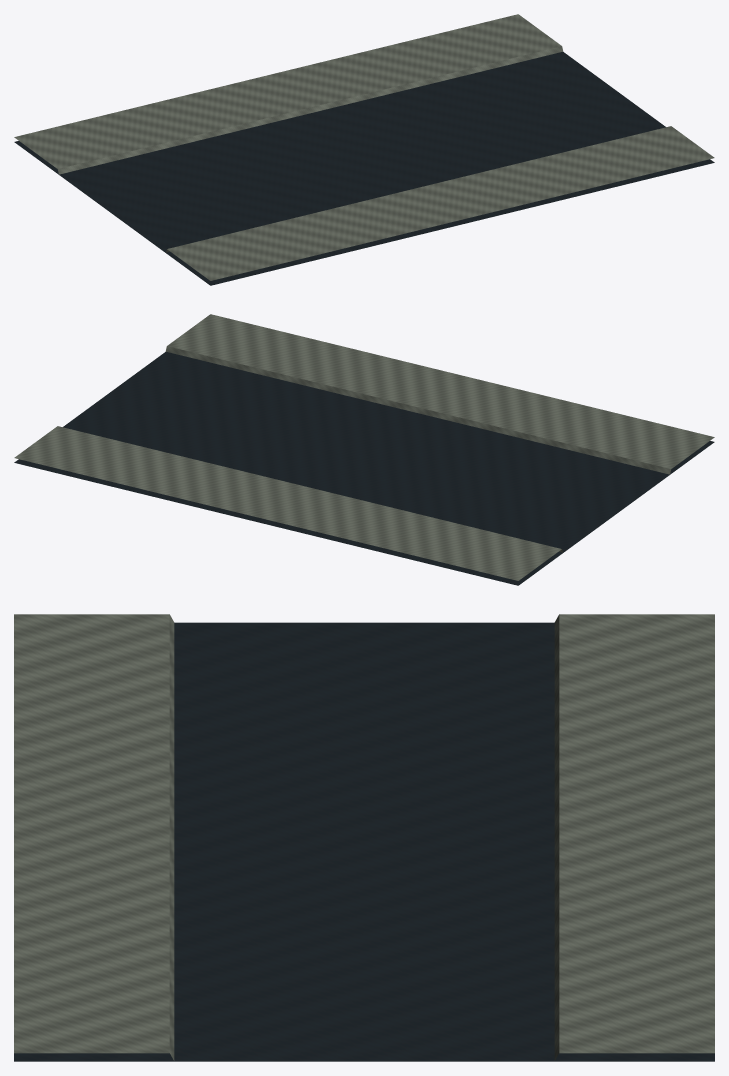
The model's file is road_local_2lane_16m_ShadowProxy.glb.
3 renders of one model, top to bottom at view 1: azimuth 30°, elevation 25°; view 2: azimuth 150°, elevation 25°; view 3: azimuth 270°, elevation 25°, orthographic. The views are drawn at different scales.
Visible parts, largest first — view 1: road_local_2lane_16m__surface.003; view 2: road_local_2lane_16m__surface.003; view 3: road_local_2lane_16m__surface.003.
Part boxes in pixels (<box>): road_local_2lane_16m__surface.003: <box>14,14,714,285</box>; road_local_2lane_16m__surface.003: <box>14,314,714,585</box>; road_local_2lane_16m__surface.003: <box>14,614,714,1061</box>.
Size of the model in its own units: 16 by 0.145 by 10.8.
3 materials, 3 textured.
